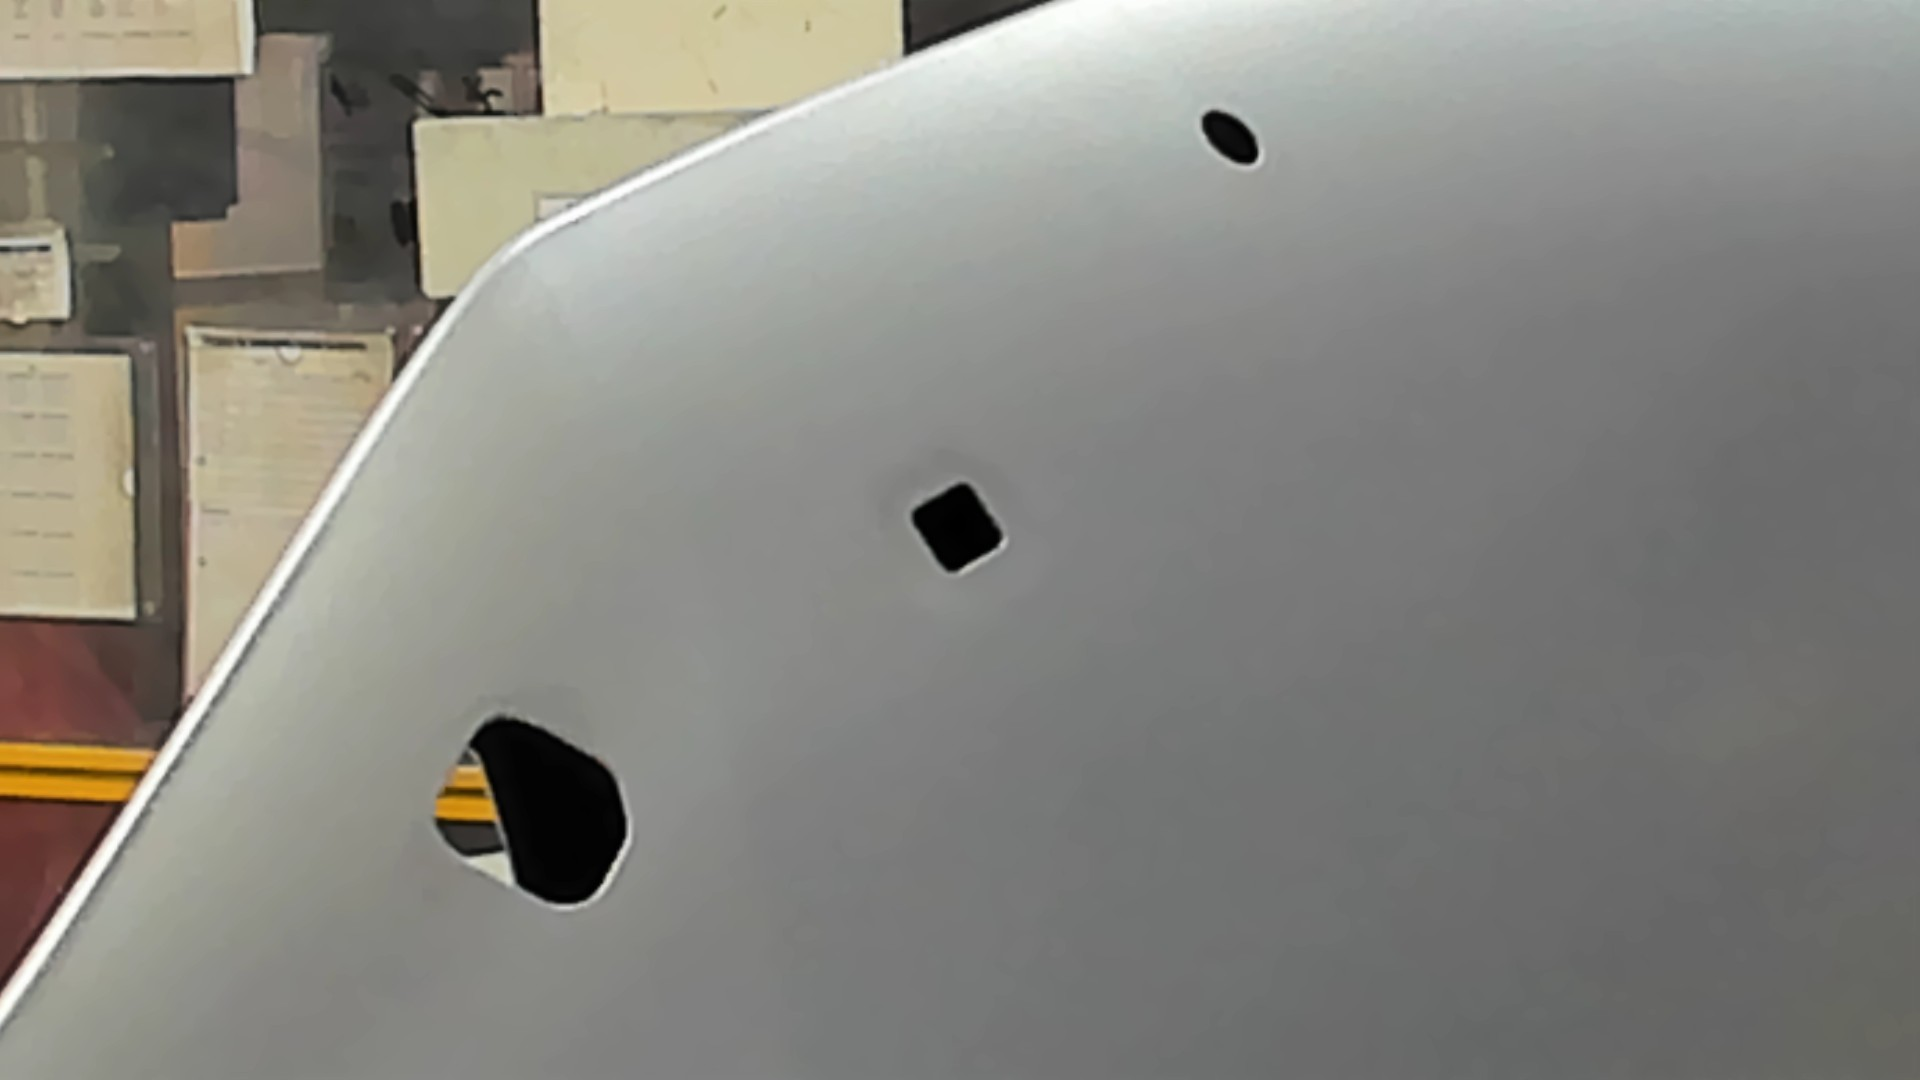chico: (1197, 105, 1266, 169)
grande: (427, 711, 634, 914)
mediano: (909, 477, 1010, 578)
